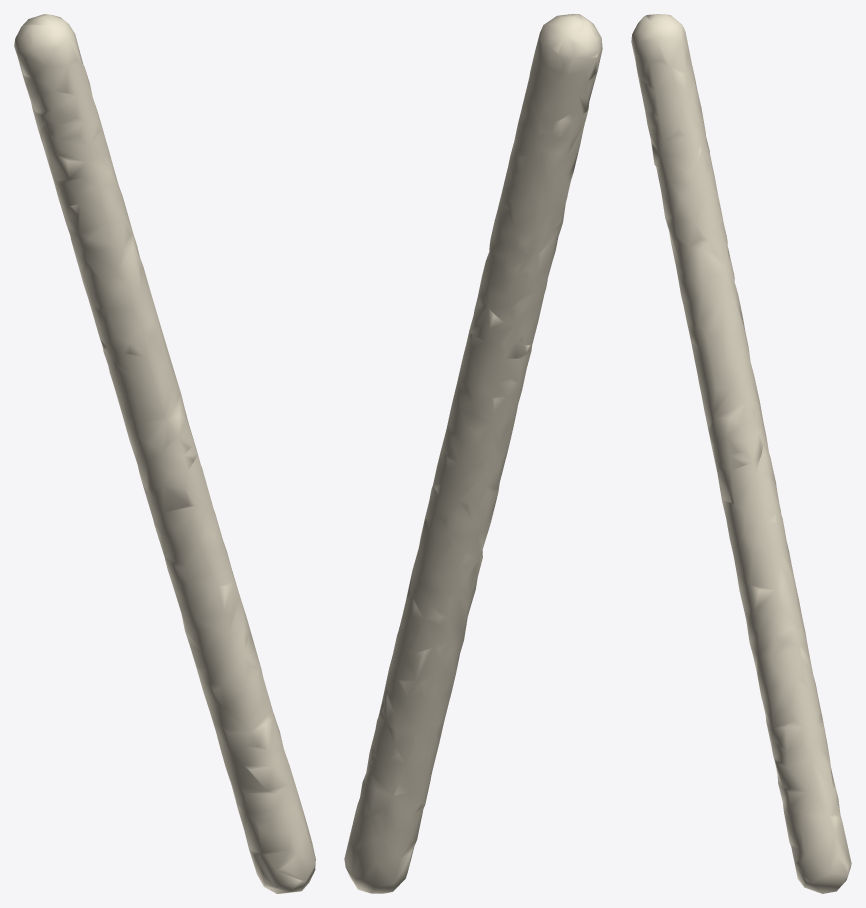
The model's file is fibula_r.glb.
The picture shows the model from 3 angles, left to right: view 1: azimuth 30°, elevation 25°; view 2: azimuth 150°, elevation 25°; view 3: azimuth 330°, elevation 25°; orthographic projection. The views are drawn at different scales.
Parts seen in each view (by area): view 1: geometry_0; view 2: geometry_0; view 3: geometry_0.
Part boxes in pixels (x1,y1,x2,y2): geometry_0: [14, 14, 315, 893]; geometry_0: [344, 14, 602, 893]; geometry_0: [631, 14, 851, 893].
Bounding box in the file's own units: 0.1899 × 0.6141 × 0.0743.
